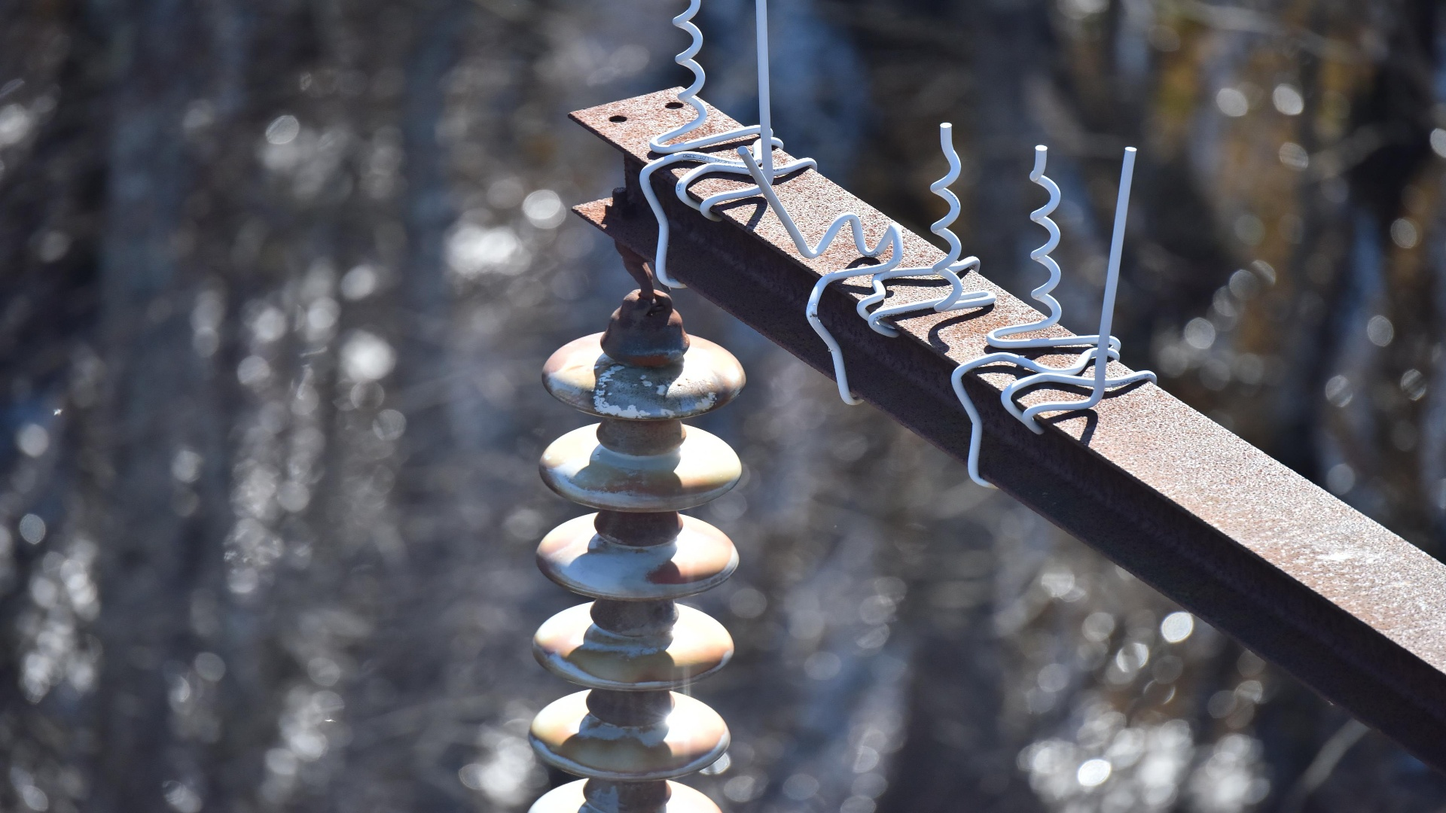insulator: (520, 329, 752, 813)
